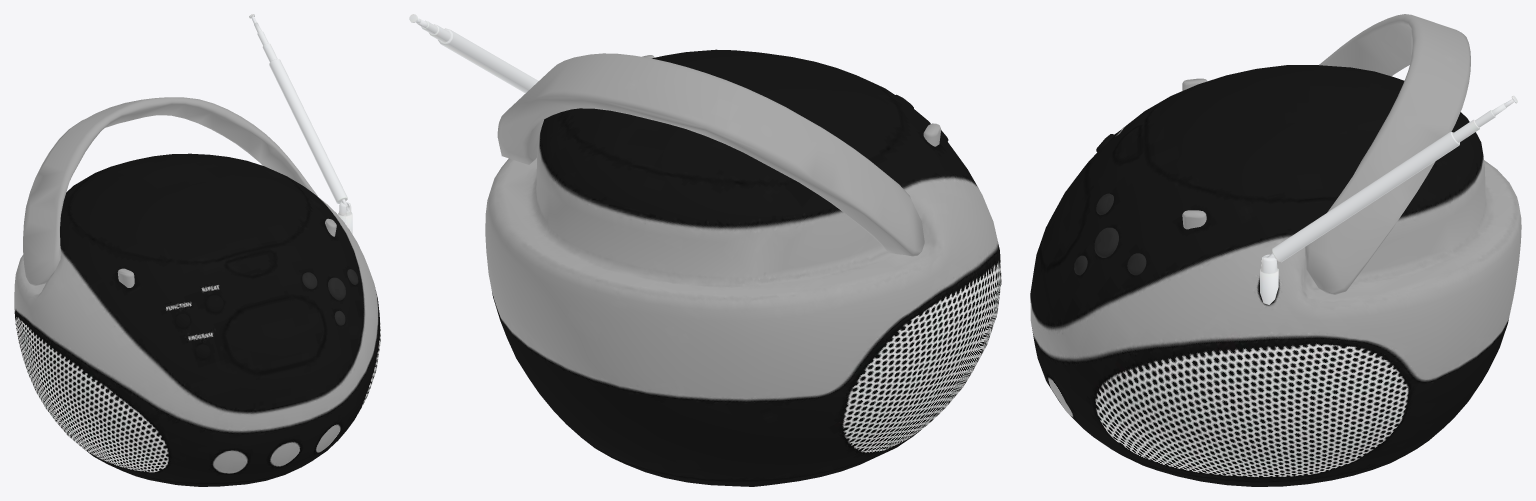
File: BoomBox-ph.glb
3 views of the same model, side by side, from view 1: azimuth 30°, elevation 25°; view 2: azimuth 150°, elevation 25°; view 3: azimuth 270°, elevation 25° (orthographic). The views are drawn at different scales.
Parts seen in each view (by area): view 1: BoomBox; view 2: BoomBox; view 3: BoomBox.
Boxes of the visible parts, x1,y1,x2,y2 form: BoomBox: (14,14,380,486); BoomBox: (409,14,1001,486); BoomBox: (1030,14,1521,486).
Bounding box in the file's own units: 0.0198 × 0.0195 × 0.0202.
1 material, 1 textured.
